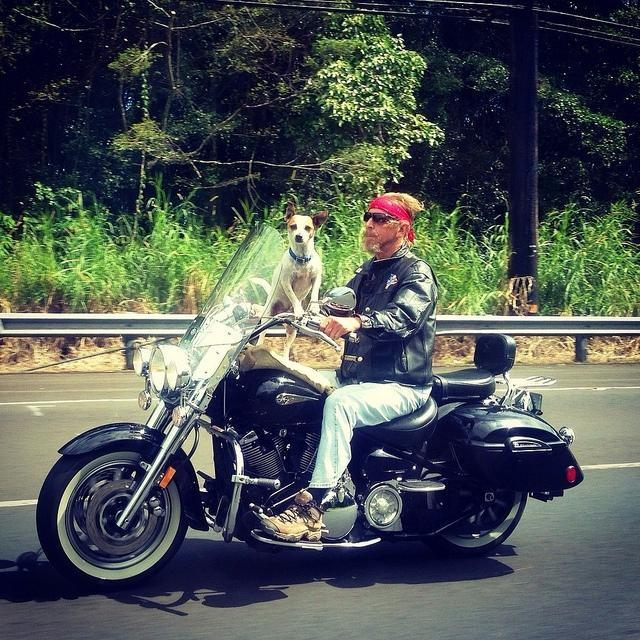motorcycle: (38, 208, 590, 576)
